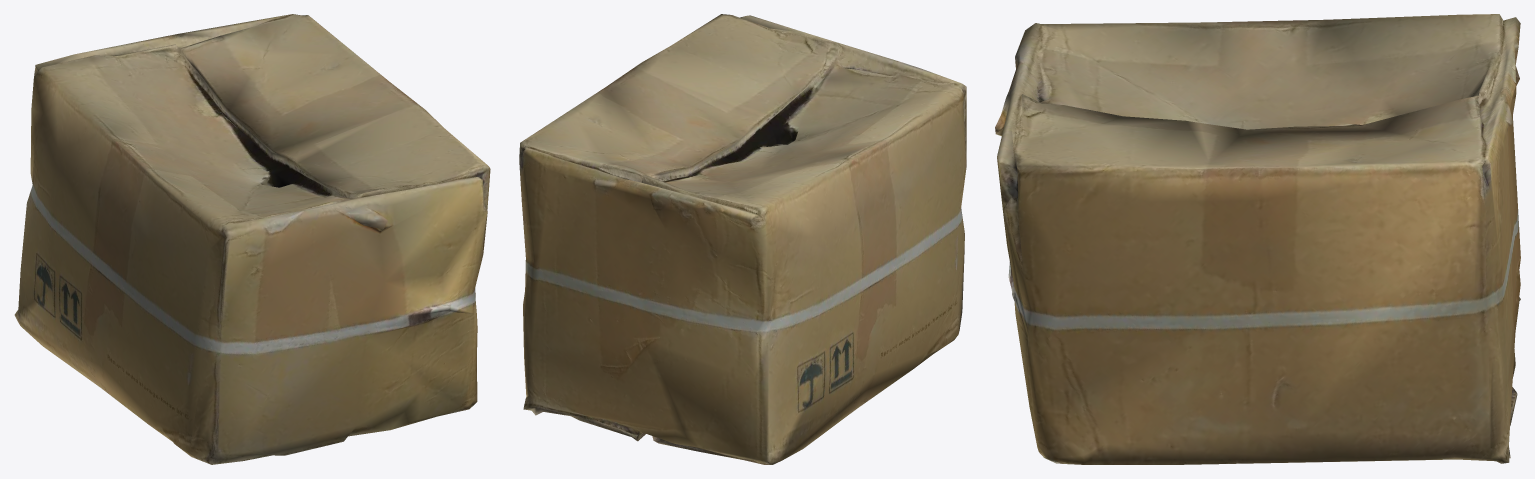
The model's file is cardboard_box_01.glb.
The picture shows the model from 3 angles, left to right: view 1: azimuth 30°, elevation 25°; view 2: azimuth 150°, elevation 25°; view 3: azimuth 270°, elevation 25°; orthographic projection. The views are drawn at different scales.
Parts seen in each view (by area): view 1: cardboard_box_01; view 2: cardboard_box_01; view 3: cardboard_box_01.
Part boxes in pixels (x1=…): cardboard_box_01: x1=14, y1=14, x2=490, y2=464; cardboard_box_01: x1=519, y1=14, x2=966, y2=464; cardboard_box_01: x1=995, y1=14, x2=1520, y2=464.
Size of the model in its own units: 0.3854 by 0.3394 by 0.5159.
1 material, 1 textured.
